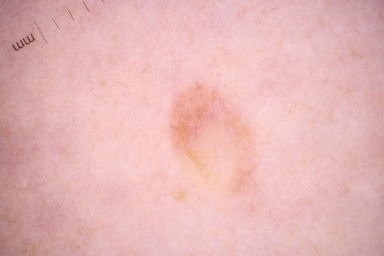nevus: (171, 84, 255, 201)
